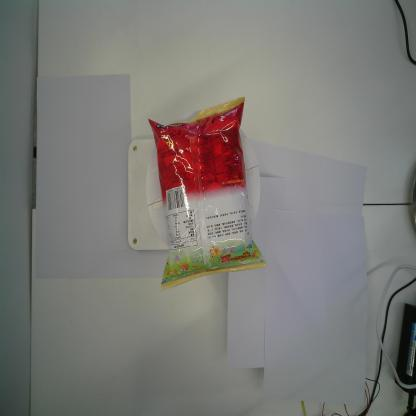Puffed Food: (148, 96, 266, 292)
